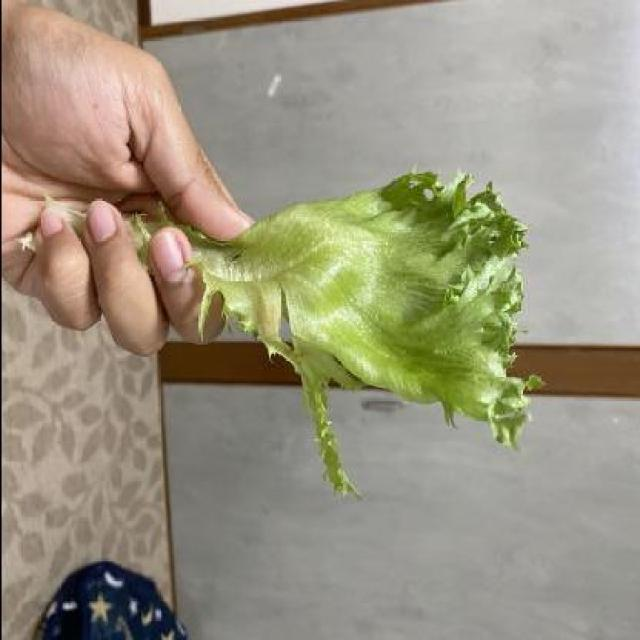Lettuce: (200, 164, 533, 443)
